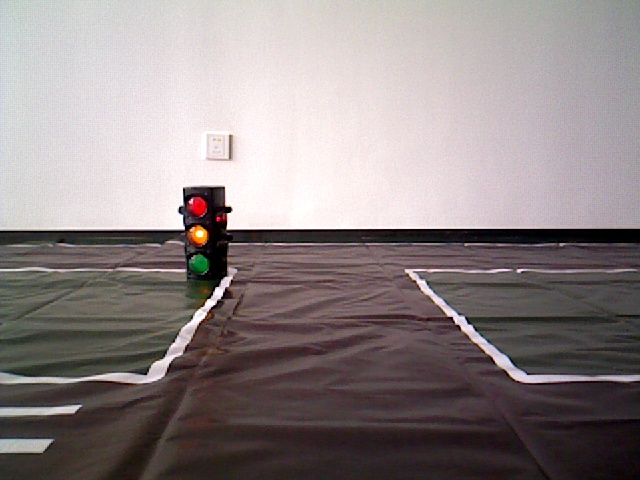yellow: (181, 183, 226, 282)
